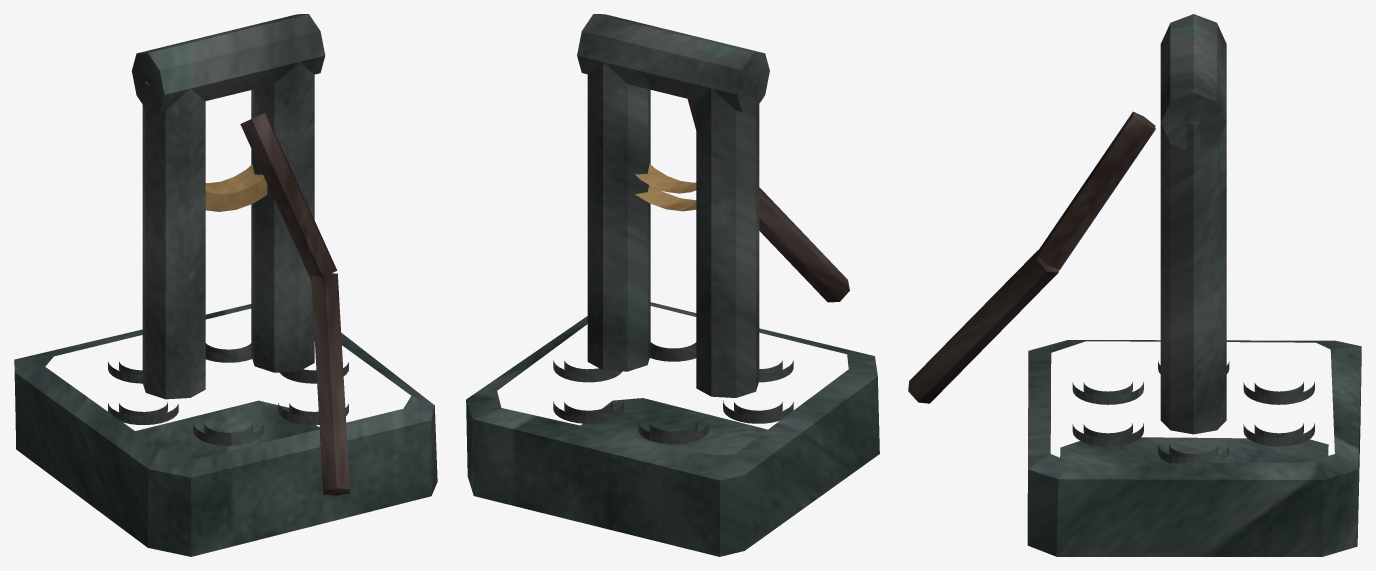
File: 0678_rope_anchor_03.glb
The picture shows the model from 3 angles, left to right: view 1: azimuth 30°, elevation 25°; view 2: azimuth 150°, elevation 25°; view 3: azimuth 270°, elevation 25°; orthographic projection.
Parts seen in each view (by area): view 1: iron, stone_dark, wood_dark, brass; view 2: iron, stone_dark, wood_dark, brass; view 3: stone_dark, iron, wood_dark.
Boxes of the visible parts, x1=… form: iron: x1=108, y1=14, x2=348, y2=445; stone_dark: x1=14, y1=304, x2=437, y2=556; wood_dark: x1=240, y1=113, x2=349, y2=495; brass: x1=205, y1=164, x2=267, y2=211; iron: x1=553, y1=14, x2=793, y2=444; stone_dark: x1=466, y1=302, x2=879, y2=556; wood_dark: x1=687, y1=99, x2=849, y2=302; brass: x1=635, y1=164, x2=696, y2=211; stone_dark: x1=1027, y1=340, x2=1361, y2=556; iron: x1=1072, y1=14, x2=1314, y2=463; wood_dark: x1=908, y1=111, x2=1155, y2=403.
Bounding box in the file's own units: 1.22 × 1.78 × 1.65.
Materials: 4 (4 with a texture image).
